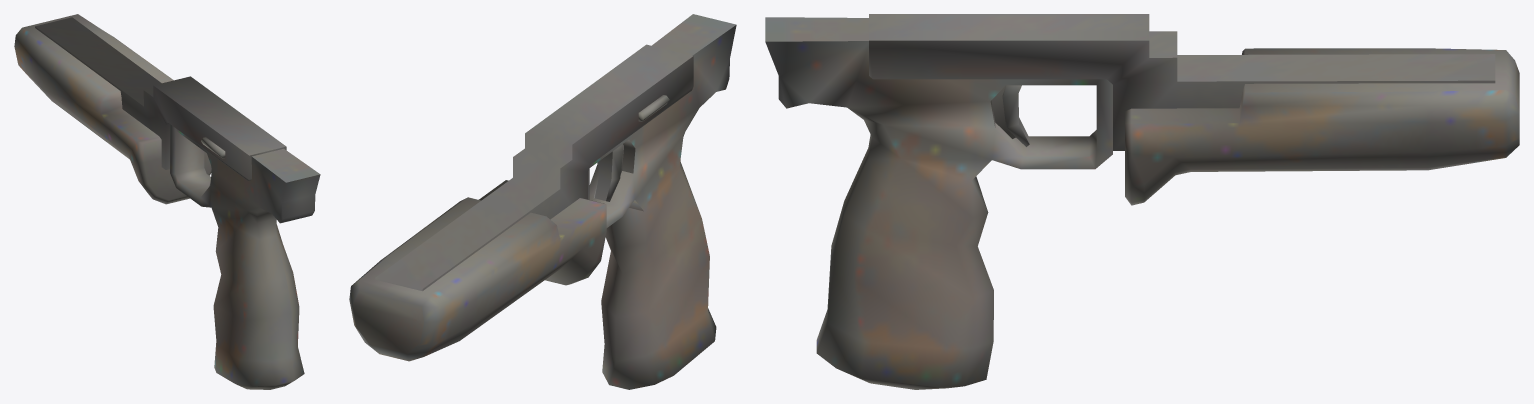
File: grip5.obj
3 views of the same model, side by side, from view 1: azimuth 30°, elevation 25°; view 2: azimuth 150°, elevation 25°; view 3: azimuth 270°, elevation 25° (orthographic). The views are drawn at different scales.
Visible parts, largest first — view 1: grip5; view 2: grip5; view 3: grip5.
Part boxes in pixels (x1,y1,x2,y2): grip5: (14, 14, 320, 389); grip5: (349, 14, 736, 389); grip5: (765, 14, 1519, 389).
Size of the model in its own units: 5.94 by 17.27 by 33.32.
